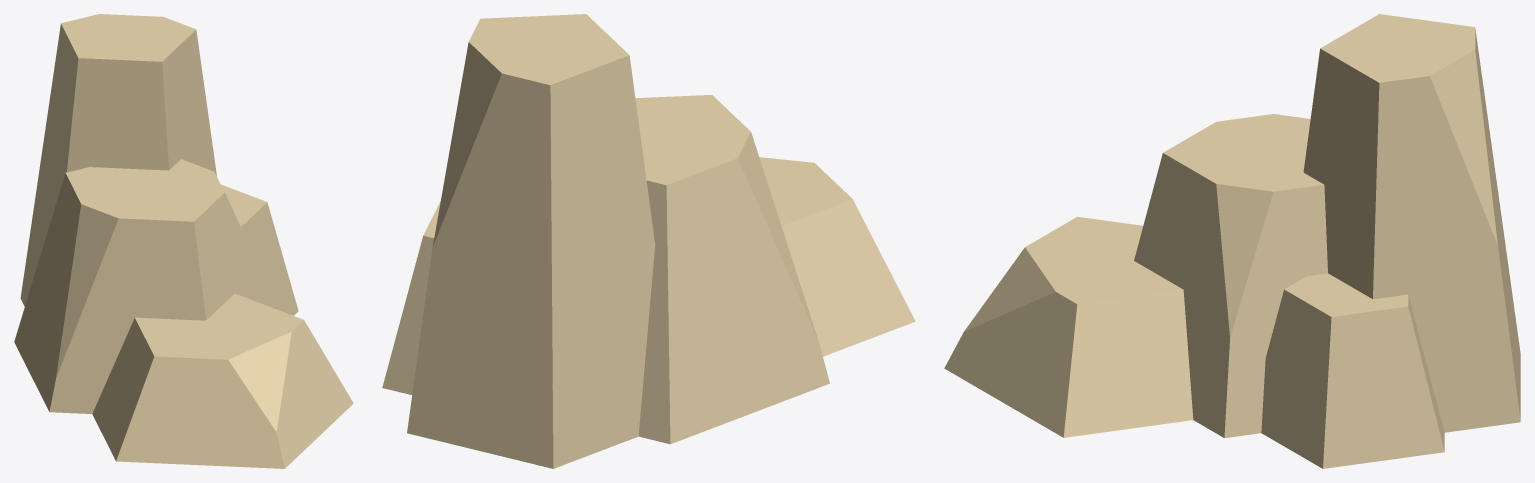
Rendered from rockC.dae.
3 views of the same model, side by side, from view 1: azimuth 30°, elevation 25°; view 2: azimuth 150°, elevation 25°; view 3: azimuth 270°, elevation 25° (orthographic). The views are drawn at different scales.
Visible parts, largest first — view 1: rockC; view 2: rockC; view 3: rockC.
Boxes of the visible parts, <box> form: rockC: <box>14,14,353,468</box>; rockC: <box>382,14,915,468</box>; rockC: <box>944,14,1520,468</box>.
Bounding box in the file's own units: 2.19 × 2.04 × 3.13.
